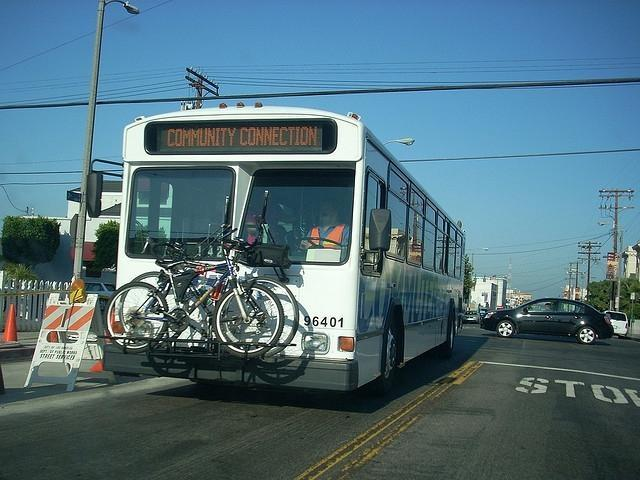bicycle: (132, 190, 300, 361), (104, 202, 282, 354)
bus: (94, 102, 472, 390)
car: (481, 298, 615, 344), (84, 282, 114, 310), (604, 310, 628, 335), (460, 311, 480, 324)
